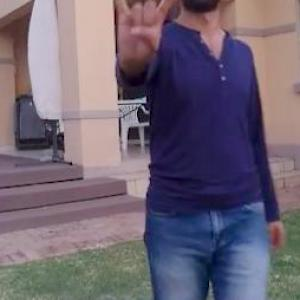takeoff-hand: (105, 0, 197, 83)
